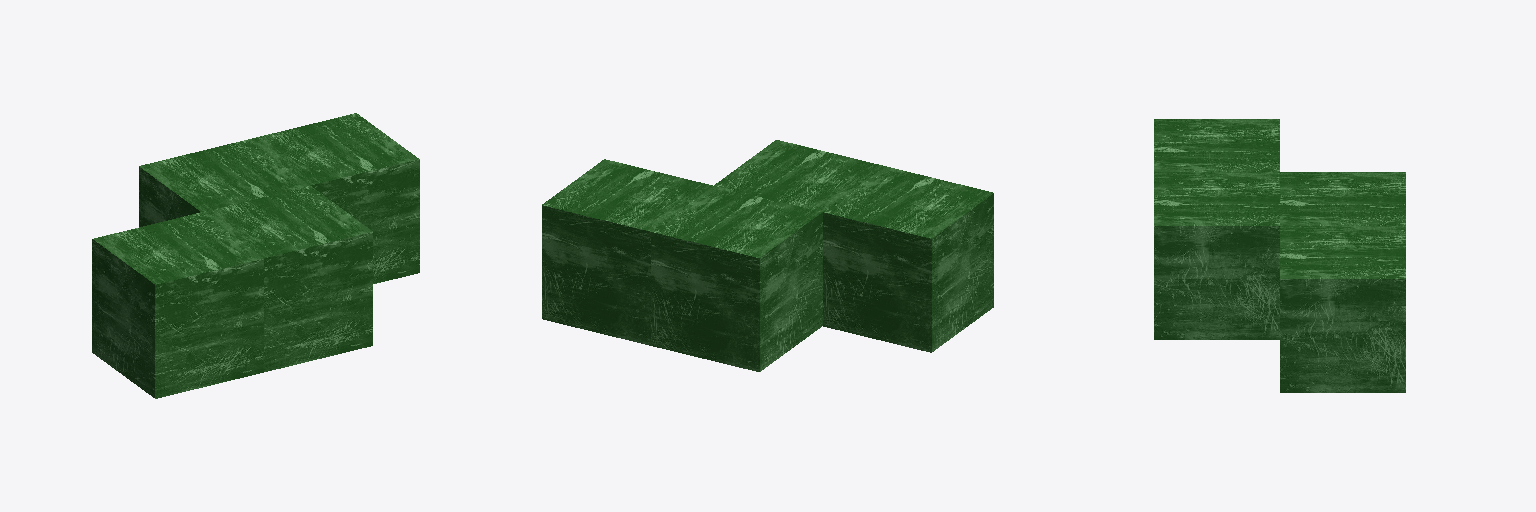
3 renders of one model, left to right at view 1: azimuth 30°, elevation 25°; view 2: azimuth 150°, elevation 25°; view 3: azimuth 270°, elevation 25°, orthographic.
Visible parts, largest first — view 1: Cube.004, Cube.003, Cube.002, Cube.001; view 2: Cube.001, Cube.004, Cube.002, Cube.003; view 3: Cube.003, Cube.002, Cube.001, Cube.004.
Boxes of the visible parts, x1=… form: Cube.004: x1=92, y1=212, x2=263, y2=398; Cube.003: x1=202, y1=186, x2=372, y2=371; Cube.002: x1=248, y1=113, x2=419, y2=283; Cube.001: x1=139, y1=140, x2=309, y2=226; Cube.001: x1=651, y1=186, x2=822, y2=371; Cube.004: x1=823, y1=166, x2=993, y2=352; Cube.002: x1=542, y1=159, x2=712, y2=345; Cube.003: x1=714, y1=140, x2=884, y2=211; Cube.003: x1=1154, y1=172, x2=1279, y2=339; Cube.002: x1=1280, y1=226, x2=1405, y2=392; Cube.001: x1=1280, y1=172, x2=1405, y2=225; Cube.004: x1=1154, y1=119, x2=1279, y2=171.
Bounding box in the file's own units: 6 × 2 × 4.
1 materials, 1 textured.